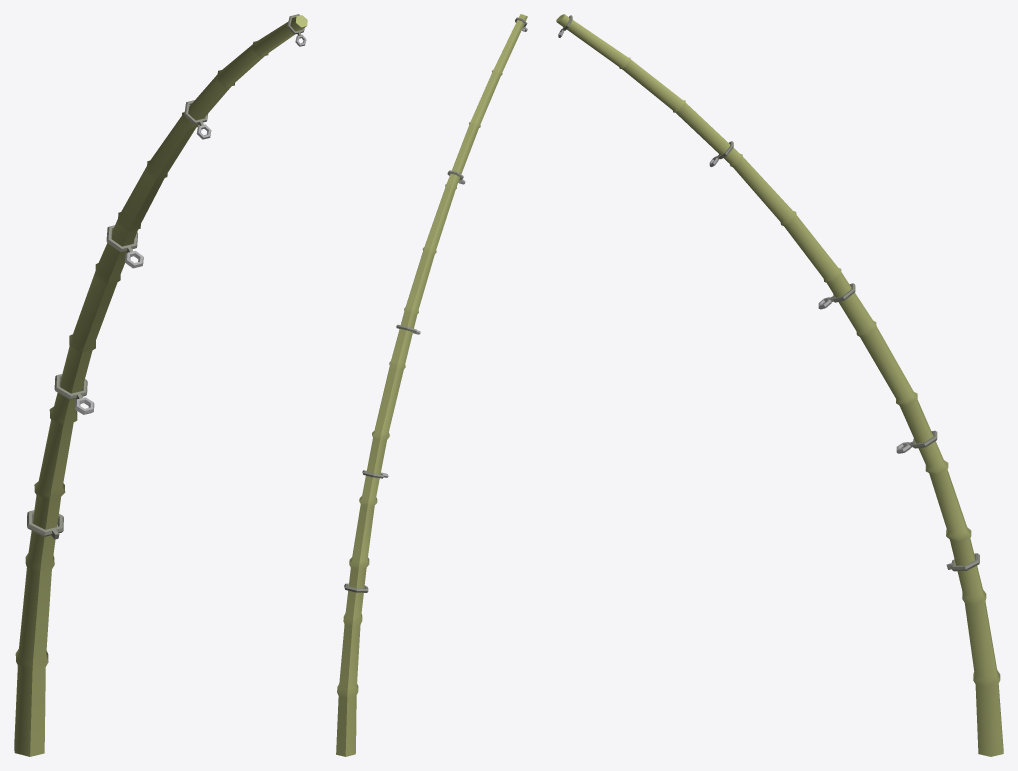
The model's file is Acc_FishingRod_A_v2.fbx.
3 views of the same model, side by side, from view 1: azimuth 30°, elevation 25°; view 2: azimuth 150°, elevation 25°; view 3: azimuth 270°, elevation 25° (orthographic). The views are drawn at different scales.
Parts seen in each view (by area): view 1: Rod; view 2: Rod; view 3: Rod.
Boxes of the visible parts, bbox=[...] form: Rod: bbox=[14, 15, 307, 756]; Rod: bbox=[336, 14, 527, 756]; Rod: bbox=[556, 14, 1003, 756].
Size of the model in its own units: 0.0824 by 1.97 by 1.09.
